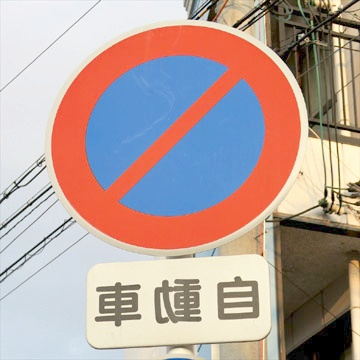Prohibition_sign: (29, 15, 336, 254)
